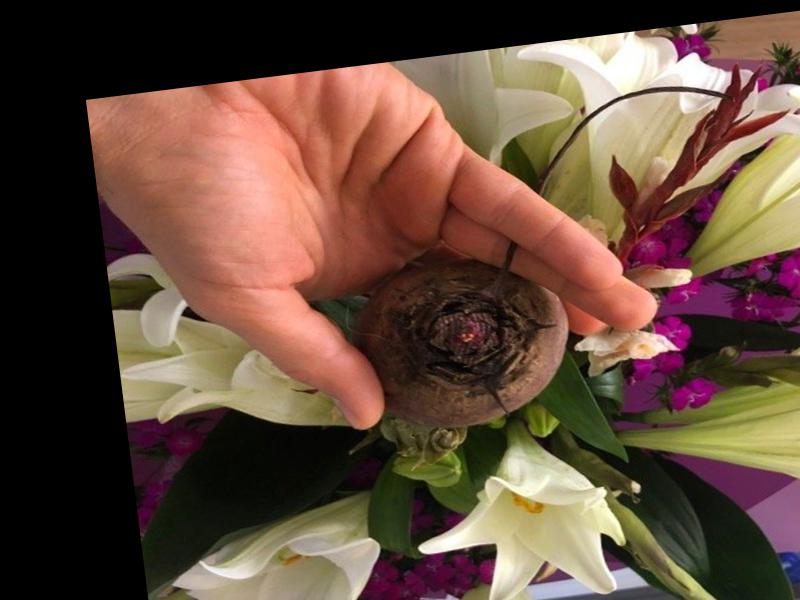Beet: (347, 241, 582, 439)
